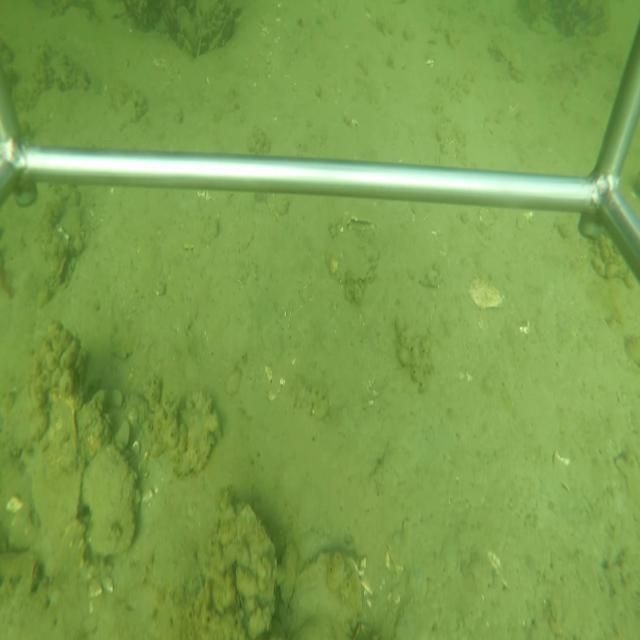Oyster-Closed: (233, 501, 279, 635)
Oyster-Indeterminate: (280, 550, 366, 640), (78, 444, 140, 560)
